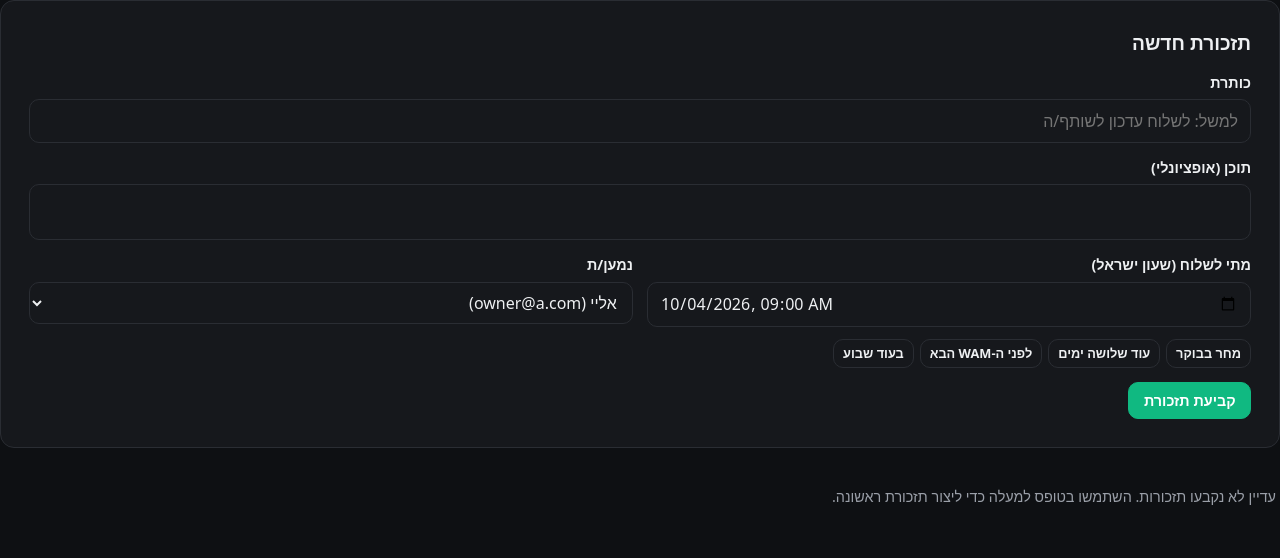
Test: RemindersPage › rejects a nonexistent Israel wall-clock time (DST spring-forward gap) client-side
Expected: the text "עדיין לא נקבעו תזכורות" is shown, [832,487,1276,506]
Type "כותרת" into the field labelled "כותרת" at x=640, y=121, box [29,99,1251,143]
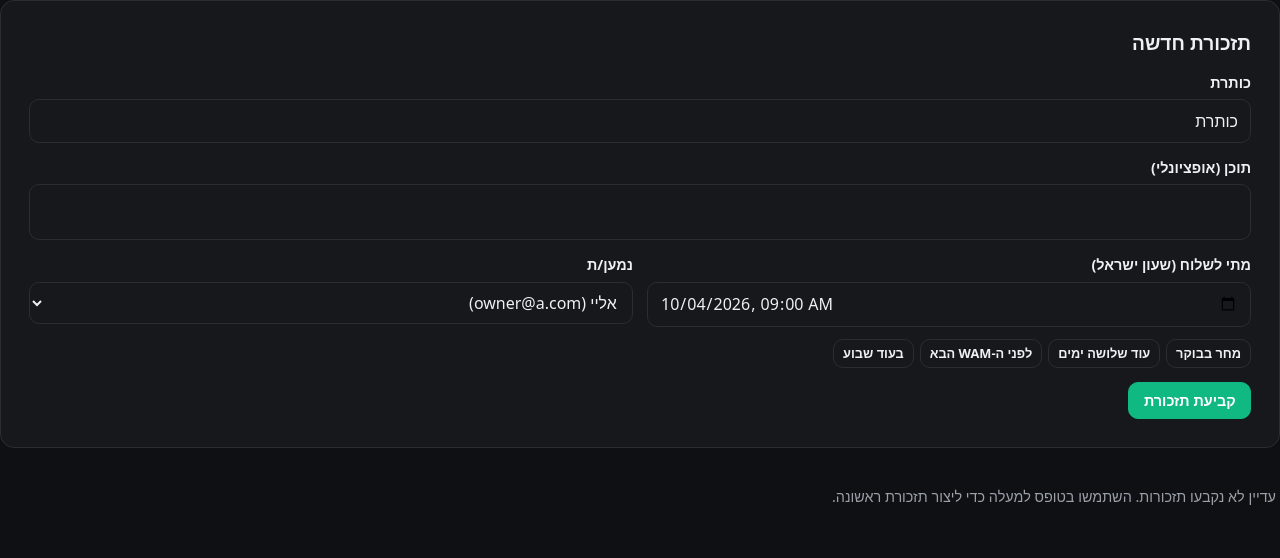
Replace the text in the field labelled "מתי לשלוח (שעון ישראל)" with "2026-03-27T02:30" at x=949, y=304, box [647,282,1251,327]
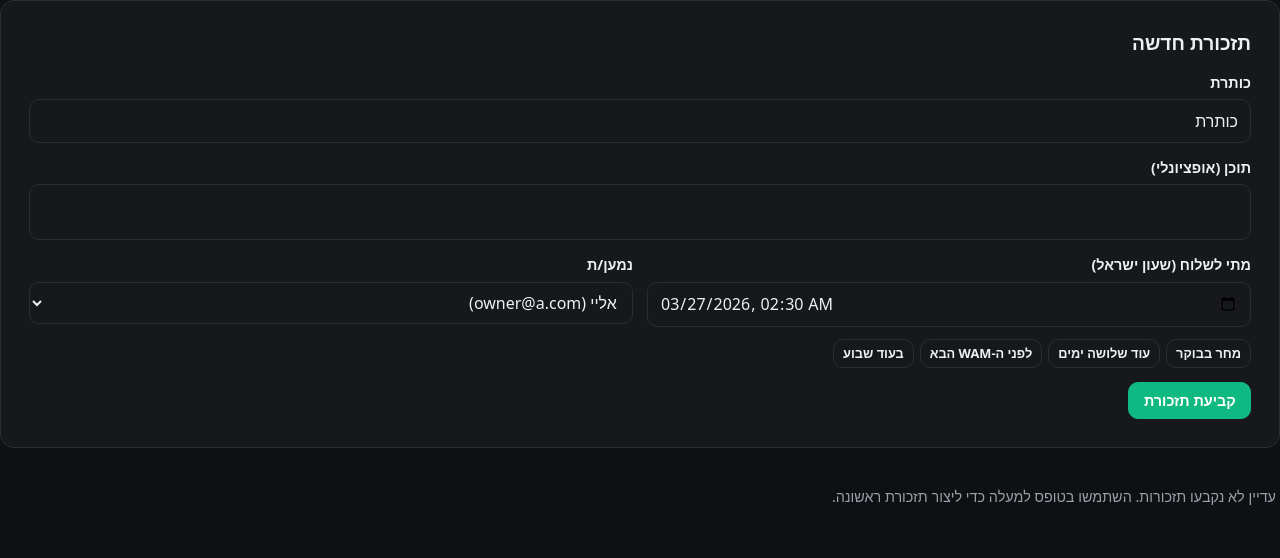
Click the button "קביעת תזכורת" at x=1190, y=400, box [1128,382,1251,419]
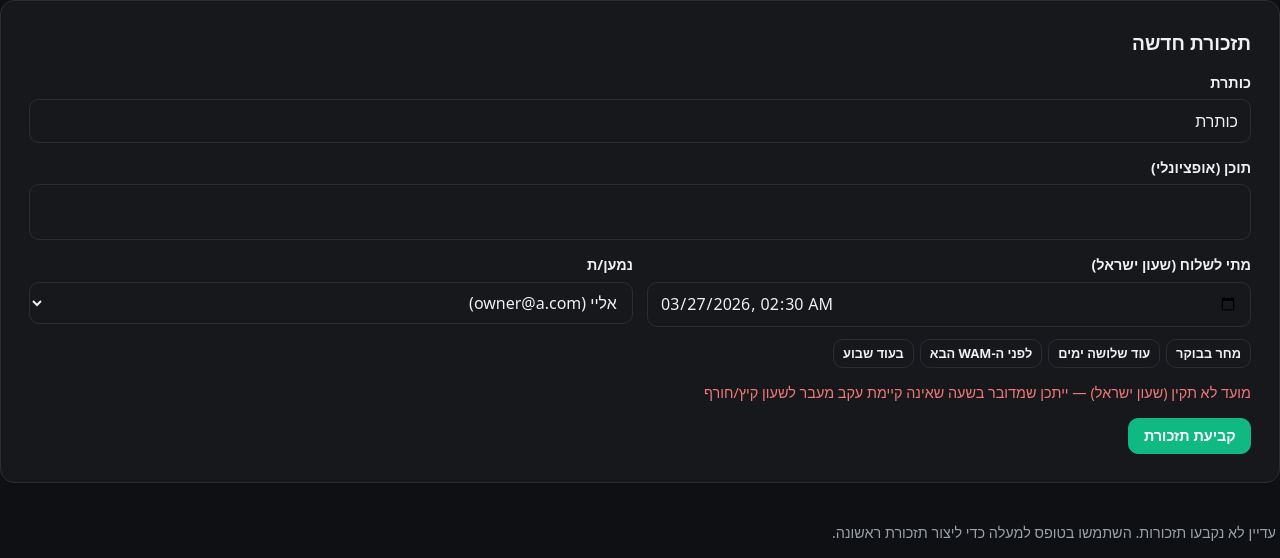
Result: the text "מועד לא תקין" is shown at [704,383,1251,402]
